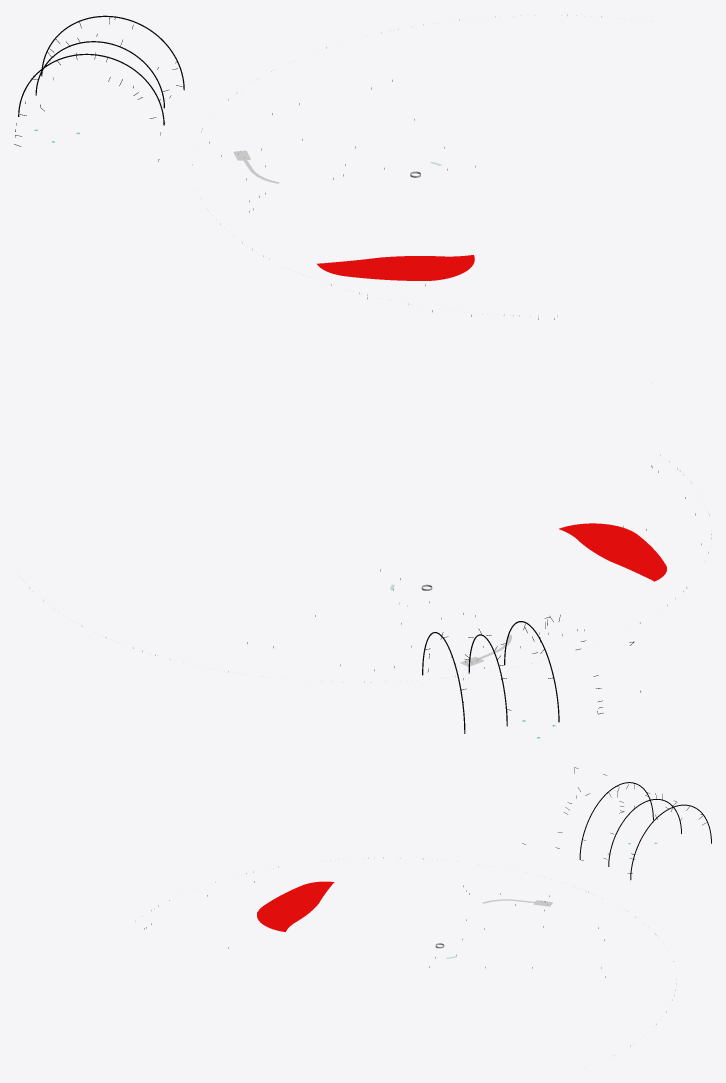
Rendered from mahmoud-design-world-010.glb.
3 views of the same model, one above another, from view 1: azimuth 30°, elevation 25°; view 2: azimuth 150°, elevation 25°; view 3: azimuth 270°, elevation 25° (orthographic). The views are drawn at different scales.
Parts seen in each view (by area): view 1: DESIGN-OCCURRENCE-KAP-R2-8B21CA4A0A7CA54007471CA1; view 2: DESIGN-OCCURRENCE-KAP-R2-8B21CA4A0A7CA54007471CA1; view 3: DESIGN-OCCURRENCE-KAP-R2-8B21CA4A0A7CA54007471CA1.
Boxes of the visible parts, x1,y1,x2,y2 form: DESIGN-OCCURRENCE-KAP-R2-8B21CA4A0A7CA54007471CA1: (317, 255, 474, 280); DESIGN-OCCURRENCE-KAP-R2-8B21CA4A0A7CA54007471CA1: (559, 523, 666, 581); DESIGN-OCCURRENCE-KAP-R2-8B21CA4A0A7CA54007471CA1: (257, 881, 334, 931).
Size of what is drawn, in the model's own units: 354 by 50.31 by 417.
